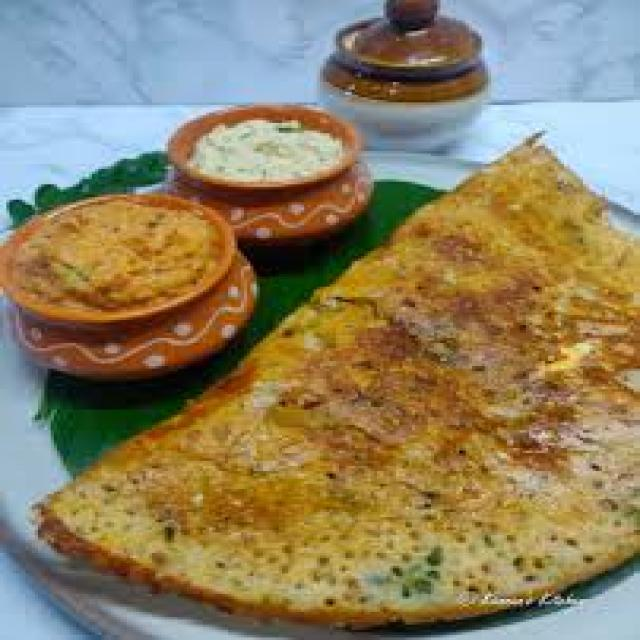DOSA: (30, 131, 632, 616)
